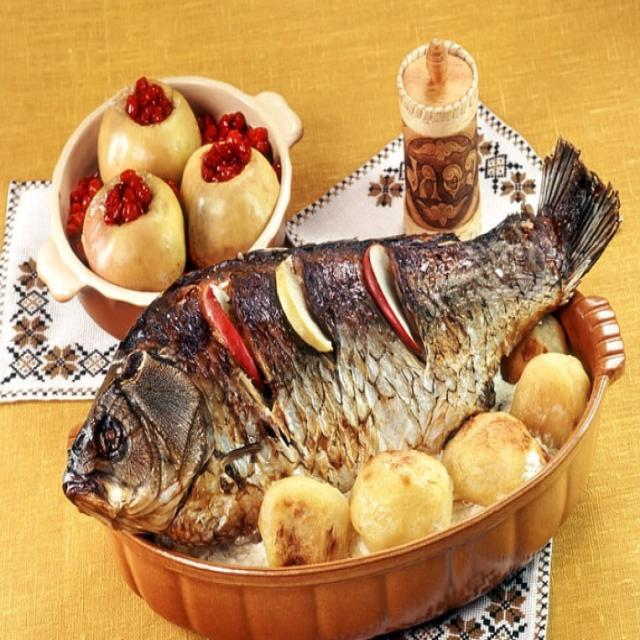FISH FRY: (63, 141, 618, 555)
